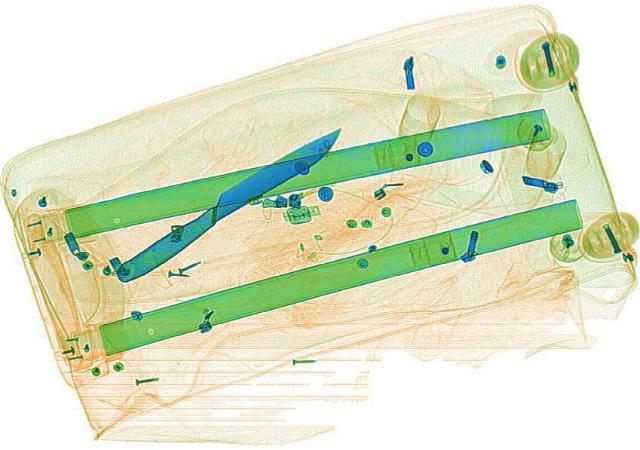Knife: (104, 119, 356, 285)
